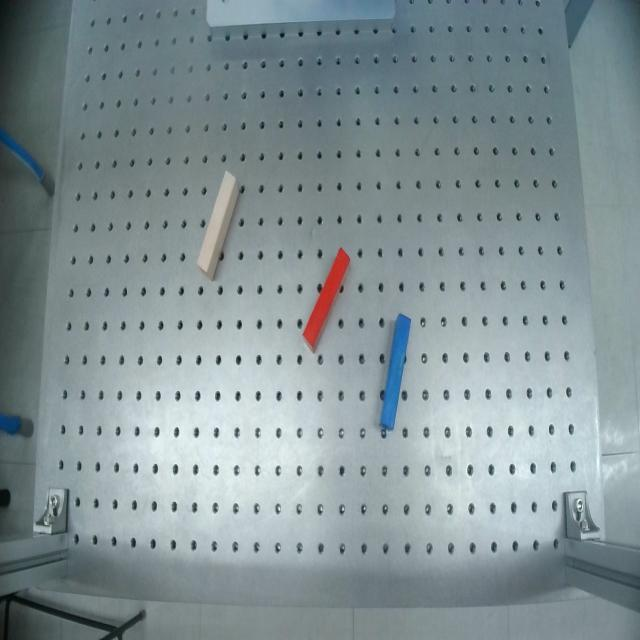blue: (377, 312, 412, 434)
red: (298, 247, 356, 354)
wood: (193, 170, 244, 282)
